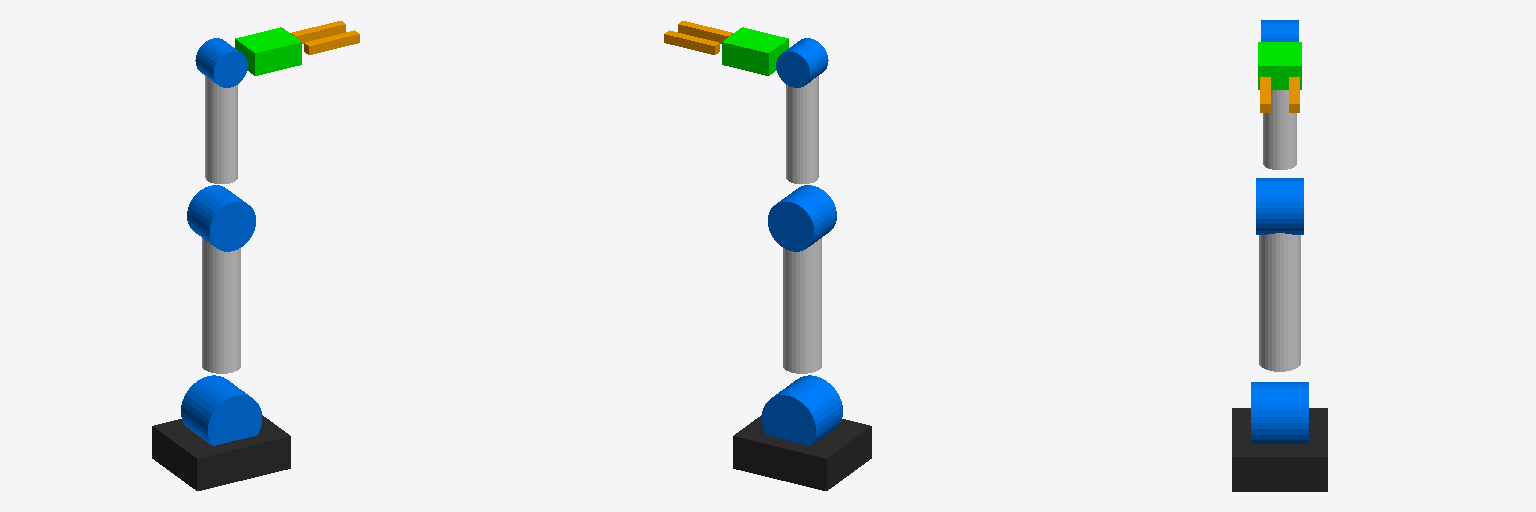
URDF robot description (adaptive_gripper_arm):
<?xml version="1.0"?>
<robot name="adaptive_gripper_arm">

  <!-- ===== MATERIALS ===== -->
  <material name="DarkGrey">
    <color rgba="0.2 0.2 0.2 1.0"/>
  </material>
  <material name="Blue">
    <color rgba="0.0 0.5 1.0 1.0"/>
  </material>
  <material name="White">
    <color rgba="0.9 0.9 0.9 1.0"/>
  </material>
  <material name="Green">
    <color rgba="0.0 1.0 0.0 1.0"/>
  </material>
  <material name="Orange">
    <color rgba="1.0 0.65 0.0 1.0"/>
  </material>

  <!-- ===== WORLD ANCHOR ===== -->
  <link name="world"/>

  <!-- ===== BASE LINK ===== -->
  <link name="base_link">
    <inertial>
      <origin xyz="0 0 0.02" rpy="0 0 0"/>
      <mass value="1.0"/>
      <inertia ixx="0.002" ixy="0.0" ixz="0.0" iyy="0.002" iyz="0.0" izz="0.002"/>
    </inertial>
    <visual>
      <origin xyz="0 0 0" rpy="0 0 0"/>
      <geometry>
        <box size="0.12 0.10 0.04"/>
      </geometry>
      <material name="DarkGrey"/>
    </visual>
    <collision>
      <origin xyz="0 0 0" rpy="0 0 0"/>
      <geometry>
        <box size="0.12 0.10 0.04"/>
      </geometry>
    </collision>
  </link>

  <!-- ===== SHOULDER LINK ===== -->
  <link name="shoulder_link">
    <inertial>
      <origin xyz="0 0 0.03" rpy="0 0 0"/>
      <mass value="0.5"/>
      <inertia ixx="0.0005" ixy="0.0" ixz="0.0" iyy="0.0005" iyz="0.0" izz="0.0002"/>
    </inertial>
    <visual>
      <origin xyz="0 0 0" rpy="1.5708 0 0"/>
      <geometry>
        <cylinder radius="0.035" length="0.06"/>
      </geometry>
      <material name="Blue"/>
    </visual>
    <collision>
      <origin xyz="0 0 0" rpy="1.5708 0 0"/>
      <geometry>
        <cylinder radius="0.035" length="0.06"/>
      </geometry>
    </collision>
  </link>

  <!-- ===== UPPER ARM LINK (slim cylinder along Z) ===== -->
  <link name="upper_arm_link">
    <inertial>
      <origin xyz="0 0 0.09" rpy="0 0 0"/>
      <mass value="0.4"/>
      <inertia ixx="0.0001" ixy="0.0" ixz="0.0" iyy="0.0001" iyz="0.0" izz="0.0001"/>
    </inertial>
    <visual>
      <origin xyz="0 0 0.09" rpy="0 0 0"/>
      <geometry>
        <cylinder radius="0.022" length="0.18"/>
      </geometry>
      <material name="White"/>
    </visual>
    <collision>
      <origin xyz="0 0 0.09" rpy="0 0 0"/>
      <geometry>
        <cylinder radius="0.022" length="0.18"/>
      </geometry>
    </collision>
  </link>

  <!-- ===== ELBOW LINK ===== -->
  <link name="elbow_link">
    <inertial>
      <origin xyz="0 0 0.025" rpy="0 0 0"/>
      <mass value="0.35"/>
      <inertia ixx="0.0003" ixy="0.0" ixz="0.0" iyy="0.0003" iyz="0.0" izz="0.0001"/>
    </inertial>
    <visual>
      <origin xyz="0 0 0" rpy="1.5708 0 0"/>
      <geometry>
        <cylinder radius="0.030" length="0.05"/>
      </geometry>
      <material name="Blue"/>
    </visual>
    <collision>
      <origin xyz="0 0 0" rpy="1.5708 0 0"/>
      <geometry>
        <cylinder radius="0.030" length="0.05"/>
      </geometry>
    </collision>
  </link>

  <!-- ===== FOREARM LINK (slim cylinder along Z) ===== -->
  <link name="forearm_link">
    <inertial>
      <origin xyz="0 0 0.07" rpy="0 0 0"/>
      <mass value="0.3"/>
      <inertia ixx="0.00008" ixy="0.0" ixz="0.0" iyy="0.00008" iyz="0.0" izz="0.00008"/>
    </inertial>
    <visual>
      <origin xyz="0 0 0.07" rpy="0 0 0"/>
      <geometry>
        <cylinder radius="0.018" length="0.14"/>
      </geometry>
      <material name="White"/>
    </visual>
    <collision>
      <origin xyz="0 0 0.07" rpy="0 0 0"/>
      <geometry>
        <cylinder radius="0.018" length="0.14"/>
      </geometry>
    </collision>
  </link>

  <!-- ===== WRIST LINK ===== -->
  <link name="wrist_link">
    <inertial>
      <origin xyz="0 0 0.02" rpy="0 0 0"/>
      <mass value="0.25"/>
      <inertia ixx="0.0001" ixy="0.0" ixz="0.0" iyy="0.0001" iyz="0.0" izz="0.00005"/>
    </inertial>
    <visual>
      <origin xyz="0 0 0" rpy="1.5708 0 0"/>
      <geometry>
        <cylinder radius="0.022" length="0.04"/>
      </geometry>
      <material name="Blue"/>
    </visual>
    <collision>
      <origin xyz="0 0 0" rpy="1.5708 0 0"/>
      <geometry>
        <cylinder radius="0.022" length="0.04"/>
      </geometry>
    </collision>
  </link>

  <!-- ===== GRIPPER BASE LINK ===== -->
  <link name="gripper_base_link">
    <inertial>
      <origin xyz="0.03 0 0" rpy="0 0 0"/>
      <mass value="0.2"/>
      <inertia ixx="0.00005" ixy="0.0" ixz="0.0" iyy="0.00008" iyz="0.0" izz="0.00008"/>
    </inertial>
    <visual>
      <origin xyz="0 0 0" rpy="0 0 0"/>
      <geometry>
        <box size="0.06 0.045 0.028"/>
      </geometry>
      <material name="Green"/>
    </visual>
    <collision>
      <origin xyz="0 0 0" rpy="0 0 0"/>
      <geometry>
        <box size="0.06 0.045 0.028"/>
      </geometry>
    </collision>
  </link>

  <!-- ===== FINGER LEFT LINK ===== -->
  <link name="finger_left_link">
    <inertial>
      <origin xyz="0.0325 0 0" rpy="0 0 0"/>
      <mass value="0.05"/>
      <inertia ixx="0.000001" ixy="0.0" ixz="0.0" iyy="0.000002" iyz="0.0" izz="0.000002"/>
    </inertial>
  <visual>
    <origin xyz="0.0325 0 0" rpy="0 0 0"/>
    <geometry>
      <box size="0.065 0.011 0.011"/>
    </geometry>
    <material name="Orange"/>
  </visual>
  <collision>
    <origin xyz="0.0325 0 0" rpy="0 0 0"/>
    <geometry>
      <box size="0.065 0.011 0.011"/>
    </geometry>
  </collision>
</link>

  <!-- ===== FINGER RIGHT LINK ===== -->
  <link name="finger_right_link">
    <inertial>
      <origin xyz="0.0325 0 0" rpy="0 0 0"/>
      <mass value="0.05"/>
      <inertia ixx="0.000001" ixy="0.0" ixz="0.0" iyy="0.000002" iyz="0.0" izz="0.000002"/>
    </inertial>
  <visual>
    <origin xyz="0.0325 0 0" rpy="0 0 0"/>
    <geometry>
      <box size="0.065 0.011 0.011"/>
    </geometry>
    <material name="Orange"/>
  </visual>
  <collision>
    <origin xyz="0.0325 0 0" rpy="0 0 0"/>
    <geometry>
      <box size="0.065 0.011 0.011"/>
    </geometry>
  </collision>
  </link>

  <!-- ===== JOINTS ===== -->

  <!-- World to Base: Fixed anchor -->
  <joint name="world_to_base" type="fixed">
    <parent link="world"/>
    <child link="base_link"/>
    <origin xyz="0 0 0" rpy="0 0 0"/>
  </joint>

  <!-- Base to Shoulder: Revolute Z axis (yaw), constrained to realistic sweep -->
  <joint name="shoulder_joint" type="revolute">
    <parent link="base_link"/>
    <child link="shoulder_link"/>
    <origin xyz="0 0 0.04" rpy="0 0 0"/>
    <axis xyz="0 0 1"/>
    <limit lower="-1.0472" upper="1.0472" effort="5.0" velocity="1.2"/>
    <dynamics damping="0.2" friction="0.08"/>
  </joint>

  <!-- Shoulder to Upper Arm: Fixed, 0.06 m height (link origin at base) -->
  <joint name="shoulder_to_upper_arm" type="fixed">
    <parent link="shoulder_link"/>
    <child link="upper_arm_link"/>
    <origin xyz="0 0 0.06" rpy="0 0 0"/>
  </joint>

  <!-- Upper Arm to Elbow: Revolute Y axis (pitch), forward-bend range only -->
  <joint name="elbow_joint" type="revolute">
    <parent link="upper_arm_link"/>
    <child link="elbow_link"/>
    <origin xyz="0 0 0.18" rpy="0 0 0"/>
    <axis xyz="0 1 0"/>
    <limit lower="0.0" upper="1.5708" effort="4.0" velocity="1.2"/>
    <dynamics damping="0.18" friction="0.06"/>
  </joint>

  <!-- Elbow to Forearm: Fixed, 0.05 m height -->
  <joint name="elbow_to_forearm" type="fixed">
    <parent link="elbow_link"/>
    <child link="forearm_link"/>
    <origin xyz="0 0 0.05" rpy="0 0 0"/>
  </joint>

  <!-- Forearm to Wrist: Revolute Z axis (roll only), limited rotation -->
  <joint name="wrist_joint" type="revolute">
    <parent link="forearm_link"/>
    <child link="wrist_link"/>
    <origin xyz="0 0 0.14" rpy="0 0 0"/>
    <axis xyz="0 0 1"/>
    <limit lower="-1.0472" upper="1.0472" effort="3.0" velocity="1.5"/>
    <dynamics damping="0.12" friction="0.04"/>
  </joint>

  <!-- Wrist to Gripper Base: Fixed, 0.06 m along X -->
  <joint name="wrist_to_gripper_base" type="fixed">
    <parent link="wrist_link"/>
    <child link="gripper_base_link"/>
    <origin xyz="0.06 0 0" rpy="0 0 0"/>
  </joint>

  <!-- Gripper Base to Finger Left: limited close/open range -->
  <joint name="finger_left_joint" type="revolute">
    <parent link="gripper_base_link"/>
    <child link="finger_left_link"/>
    <origin xyz="0.04 0.015 0" rpy="0 0 0"/>
    <axis xyz="0 0 1"/>
    <limit lower="0.0" upper="1.2217" effort="2.0" velocity="1.5"/>
    <dynamics damping="0.08" friction="0.03"/>
  </joint>

  <!-- Gripper Base to Finger Right: Revolute Z axis (mirrored), 0.04 m X, -0.015 m Y offset -->
  <joint name="finger_right_joint" type="revolute">
    <parent link="gripper_base_link"/>
    <child link="finger_right_link"/>
    <origin xyz="0.04 -0.015 0" rpy="0 0 0"/>
    <axis xyz="0 0 -1"/>
    <limit lower="-1.5708" upper="0.0" effort="2.0" velocity="2.0"/>
    <dynamics damping="0.08" friction="0.03"/>
  </joint>

  <!-- ===== ROS2 CONTROL CONFIG FOR GAZEBO CLASSIC ===== -->
  <ros2_control name="GazeboSystem" type="system">
    <hardware>
      <plugin>gazebo_ros2_control/GazeboSystem</plugin>
    </hardware>

    <!-- ARM JOINTS - all 3 commandable -->
    <joint name="shoulder_joint">
      <command_interface name="position">
        <param name="min">-1.0472</param>
        <param name="max">1.0472</param>
      </command_interface>
      <state_interface name="position"/>
      <state_interface name="velocity"/>
    </joint>

    <joint name="elbow_joint">
      <command_interface name="position">
        <param name="min">0.0</param>
        <param name="max">1.5708</param>
      </command_interface>
      <state_interface name="position"/>
      <state_interface name="velocity"/>
    </joint>

    <joint name="wrist_joint">
      <command_interface name="position">
        <param name="min">-1.0472</param>
        <param name="max">1.0472</param>
      </command_interface>
      <state_interface name="position"/>
      <state_interface name="velocity"/>
    </joint>

    <!-- GRIPPER - left finger commandable only -->
    <joint name="finger_left_joint">
      <command_interface name="position">
        <param name="min">0.0</param>
        <param name="max">1.2217</param>
      </command_interface>
      <state_interface name="position"/>
      <state_interface name="velocity"/>
    </joint>

    <!-- Right finger state only for now -->
    <joint name="finger_right_joint">
      <state_interface name="position"/>
      <state_interface name="velocity"/>
    </joint>
  </ros2_control>

  <!-- ===== GAZEBO CLASSIC PLUGIN ===== -->
  <gazebo>
    <plugin name="gazebo_ros2_control" filename="libgazebo_ros2_control.so">
      <parameters>/home/nisharu/ros2_ws/src/robotic_description/config/controllers.yaml</parameters>
    </plugin>
  </gazebo>

  <!-- ===== GAZEBO MATERIALS & FRICTION ===== -->
  <gazebo reference="base_link">
    <material>Gazebo/DarkGrey</material>
    <mu1>1.0</mu1>
    <mu2>1.0</mu2>
    <kp>100000.0</kp>
    <kd>100.0</kd>
  </gazebo>

  <gazebo reference="shoulder_link">
    <material>Gazebo/Blue</material>
    <mu1>0.8</mu1>
    <mu2>0.8</mu2>
    <kp>60000.0</kp>
    <kd>80.0</kd>
  </gazebo>

  <gazebo reference="upper_arm_link">
    <material>Gazebo/White</material>
    <mu1>0.7</mu1>
    <mu2>0.7</mu2>
    <kp>50000.0</kp>
    <kd>70.0</kd>
  </gazebo>

  <gazebo reference="elbow_link">
    <material>Gazebo/Blue</material>
    <mu1>0.7</mu1>
    <mu2>0.7</mu2>
    <kp>50000.0</kp>
    <kd>70.0</kd>
  </gazebo>

  <gazebo reference="forearm_link">
    <material>Gazebo/White</material>
    <mu1>0.7</mu1>
    <mu2>0.7</mu2>
    <kp>50000.0</kp>
    <kd>70.0</kd>
  </gazebo>

  <gazebo reference="wrist_link">
    <material>Gazebo/Blue</material>
    <mu1>0.6</mu1>
    <mu2>0.6</mu2>
    <kp>40000.0</kp>
    <kd>60.0</kd>
  </gazebo>

  <gazebo reference="gripper_base_link">
    <material>Gazebo/Green</material>
    <mu1>0.9</mu1>
    <mu2>0.9</mu2>
    <kp>45000.0</kp>
    <kd>65.0</kd>
  </gazebo>

  <gazebo reference="finger_left_link">
    <material>Gazebo/Orange</material>
    <mu1>1.2</mu1>
    <mu2>1.2</mu2>
    <kp>35000.0</kp>
    <kd>55.0</kd>
  </gazebo>

  <gazebo reference="finger_right_link">
    <material>Gazebo/Orange</material>
    <mu1>1.2</mu1>
    <mu2>1.2</mu2>
    <kp>35000.0</kp>
    <kd>55.0</kd>
  </gazebo>

</robot>

--- Render facts (derived) ---
3 views of the same robot in one strip: view 1: azimuth 30°, elevation 25°; view 2: azimuth 150°, elevation 25°; view 3: azimuth 270°, elevation 25° (orthographic).
Model adaptive_gripper_arm with 10 links and 9 joints (5 revolute, 4 fixed), rooted at world, posed every joint at zero.
Visible links, largest first — view 1: base_link, upper_arm_link, shoulder_link, elbow_link, forearm_link, gripper_base_link, wrist_link, finger_right_link, finger_left_link; view 2: base_link, upper_arm_link, shoulder_link, elbow_link, forearm_link, gripper_base_link, wrist_link, finger_left_link, finger_right_link; view 3: base_link, upper_arm_link, shoulder_link, elbow_link, forearm_link, gripper_base_link, wrist_link.
Boxes of the visible links, x1,y1,x2,y2 form: base_link: (152, 415, 290, 490); upper_arm_link: (202, 238, 240, 373); shoulder_link: (181, 375, 261, 445); elbow_link: (187, 185, 255, 251); forearm_link: (205, 76, 237, 183); gripper_base_link: (235, 27, 301, 75); wrist_link: (195, 38, 247, 87); finger_right_link: (304, 30, 359, 54); finger_left_link: (290, 21, 345, 43); base_link: (733, 415, 871, 490); upper_arm_link: (783, 238, 821, 373); shoulder_link: (762, 375, 842, 445); elbow_link: (768, 185, 836, 251); forearm_link: (786, 76, 818, 183); gripper_base_link: (722, 27, 788, 75); wrist_link: (776, 38, 828, 87); finger_left_link: (664, 30, 719, 54); finger_right_link: (678, 21, 733, 43); base_link: (1232, 408, 1327, 491); upper_arm_link: (1259, 233, 1300, 371); shoulder_link: (1251, 382, 1308, 443); elbow_link: (1256, 178, 1303, 234); forearm_link: (1263, 90, 1296, 169); gripper_base_link: (1258, 42, 1301, 89); wrist_link: (1261, 20, 1298, 41).
Bounding box of the posed robot: 0.225 × 0.1 × 0.512 m (x, y, z).
Geometry: primitives only (box / cylinder / sphere), no mesh files.
